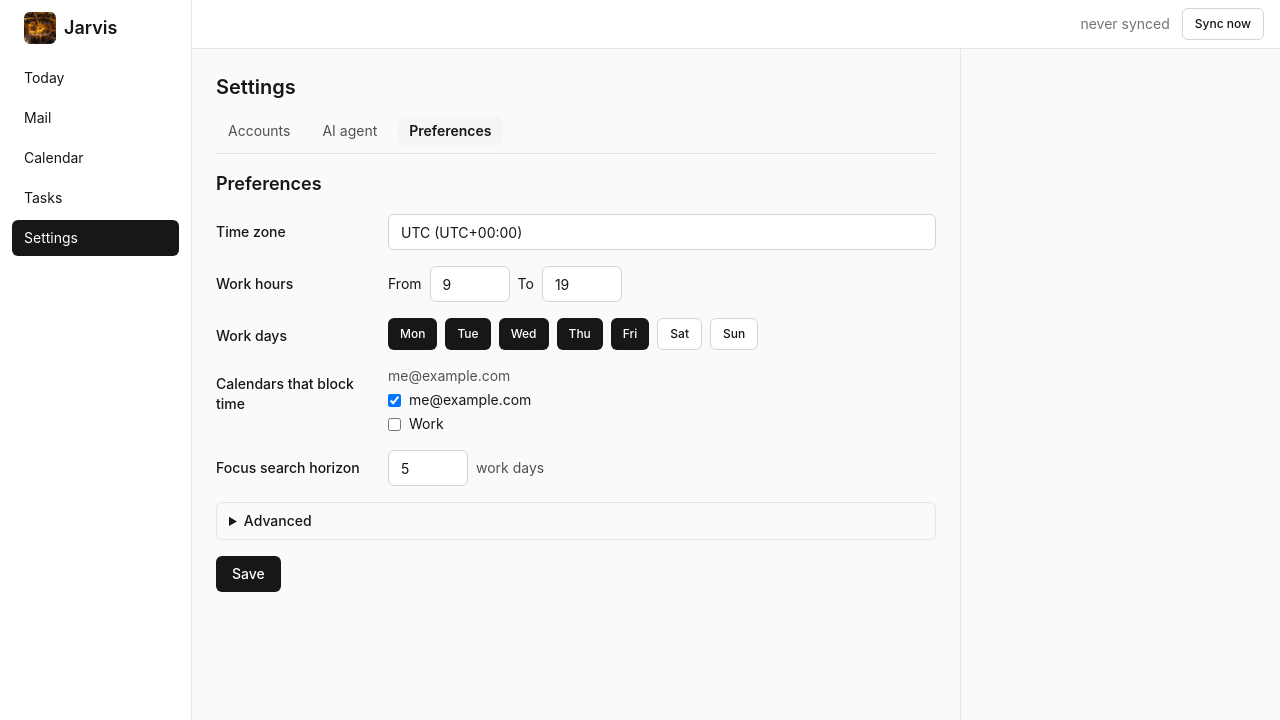
Test: settings preferences › saves the exact settings body and changed busy calendars
Replace the text in the number field labelled "To" with "20" at (582, 284), box [542,266,622,302]
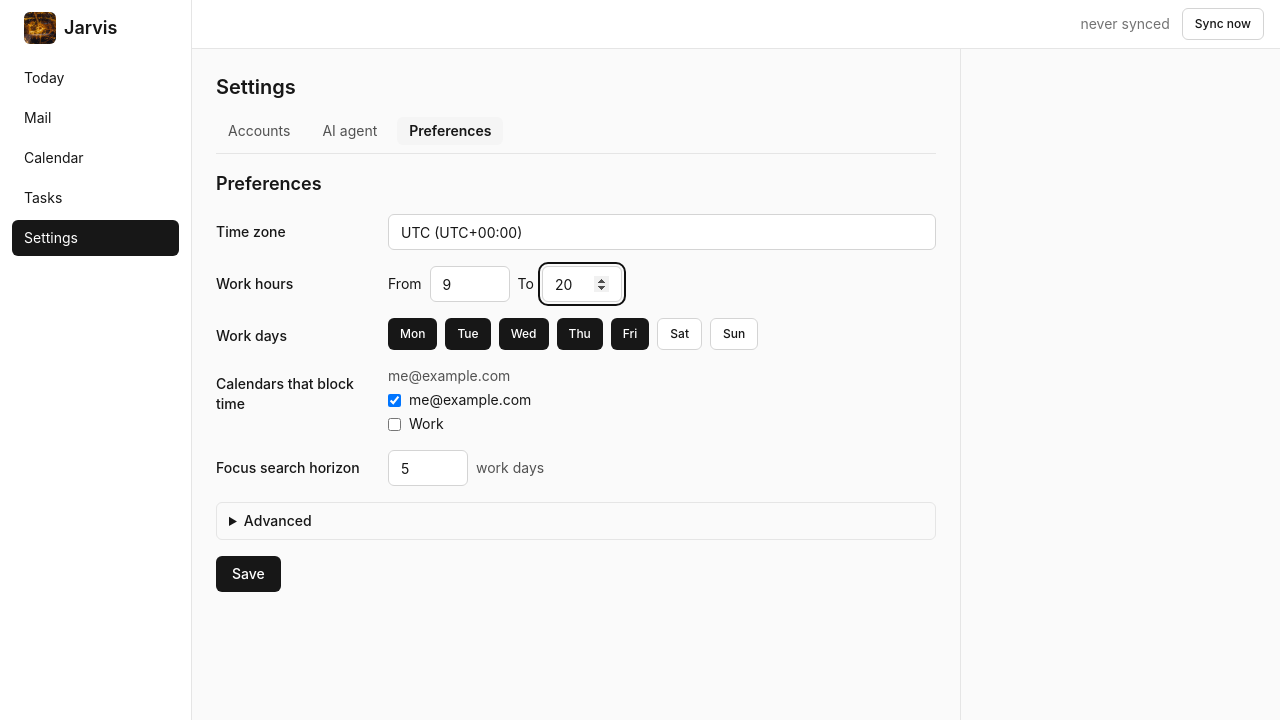
Click the checkbox labelled "Work" at (394, 424), box [388,418,401,430]
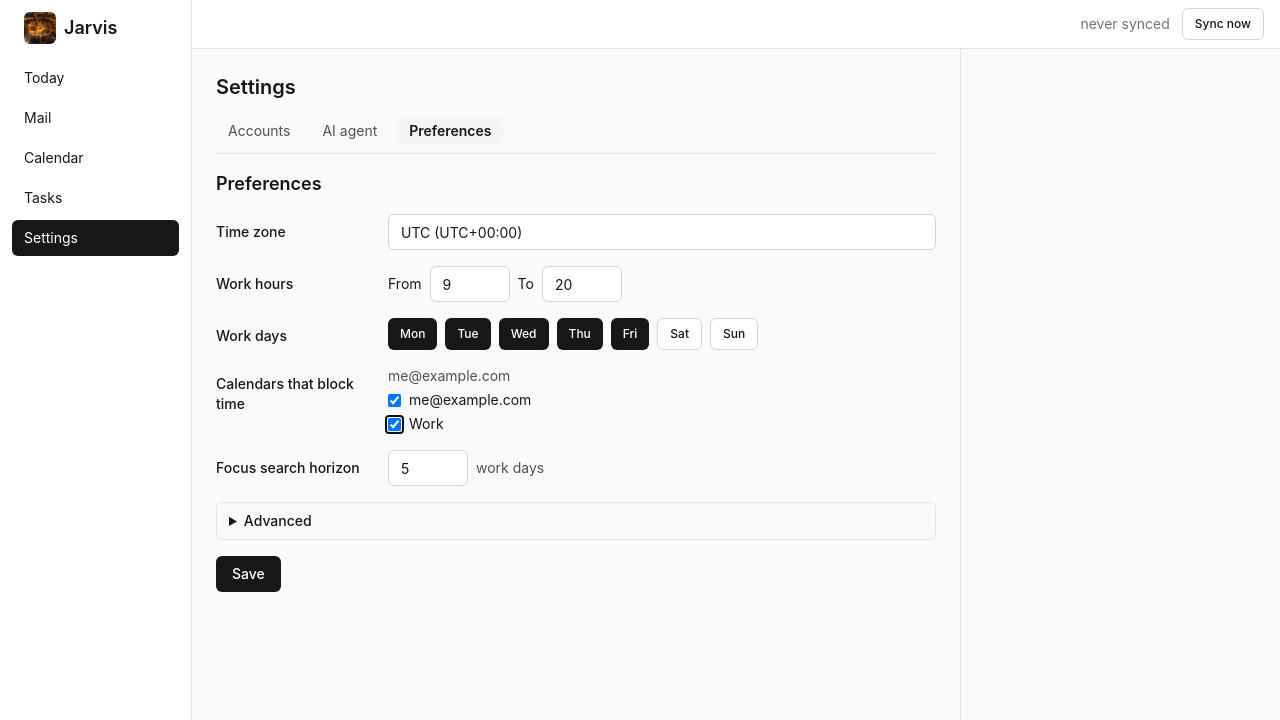
Click the button "Save" at (248, 574), box [216,556,281,592]
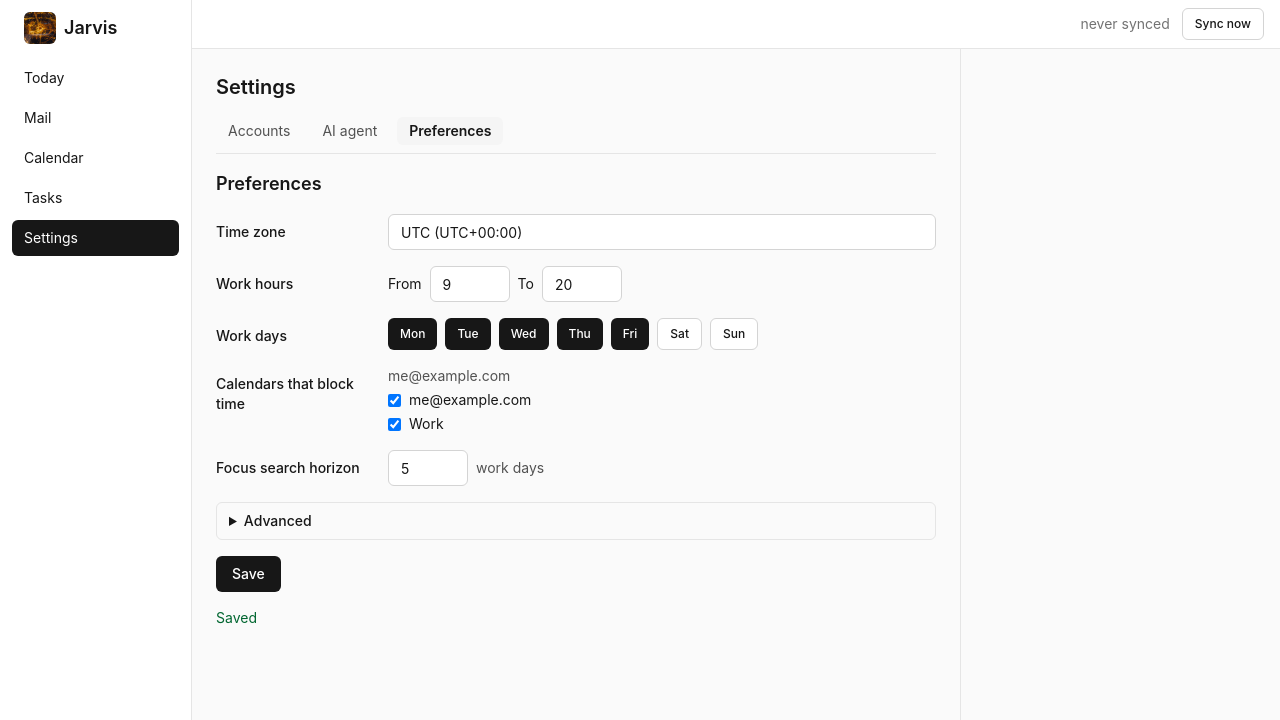
Check: the message reads "Saved", box [216,609,257,626]
